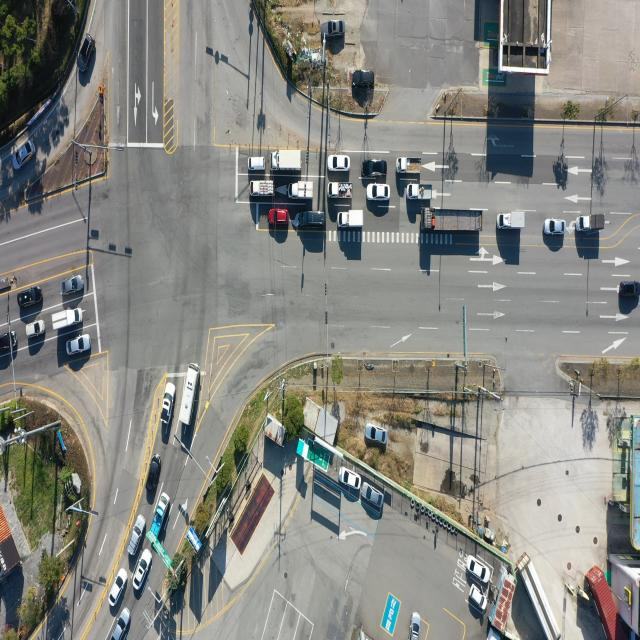car: (12, 138, 40, 169), (133, 548, 152, 589), (128, 513, 146, 556), (109, 567, 128, 606), (162, 382, 176, 433), (113, 607, 133, 640), (146, 457, 161, 500), (469, 557, 490, 582), (340, 466, 362, 489), (66, 336, 90, 357), (18, 287, 42, 308), (364, 485, 385, 509), (78, 39, 92, 75), (300, 209, 324, 230), (360, 161, 386, 180), (468, 584, 486, 611), (364, 424, 387, 444), (62, 276, 84, 295), (366, 183, 389, 201), (322, 20, 344, 38), (0, 328, 17, 351), (327, 156, 349, 173), (543, 218, 565, 234), (352, 70, 374, 86), (26, 320, 45, 338), (620, 281, 639, 298), (270, 208, 290, 224), (411, 613, 422, 640), (250, 155, 268, 170)
medium_truck: (521, 553, 563, 638), (426, 212, 483, 232), (271, 148, 303, 171)
small_bus: (177, 362, 198, 427)
small_truck: (150, 492, 170, 540), (52, 307, 84, 331), (576, 213, 608, 233), (498, 210, 527, 230), (338, 209, 364, 229), (408, 182, 435, 201), (326, 180, 353, 198), (290, 180, 314, 200), (396, 158, 421, 176), (250, 179, 274, 196)
